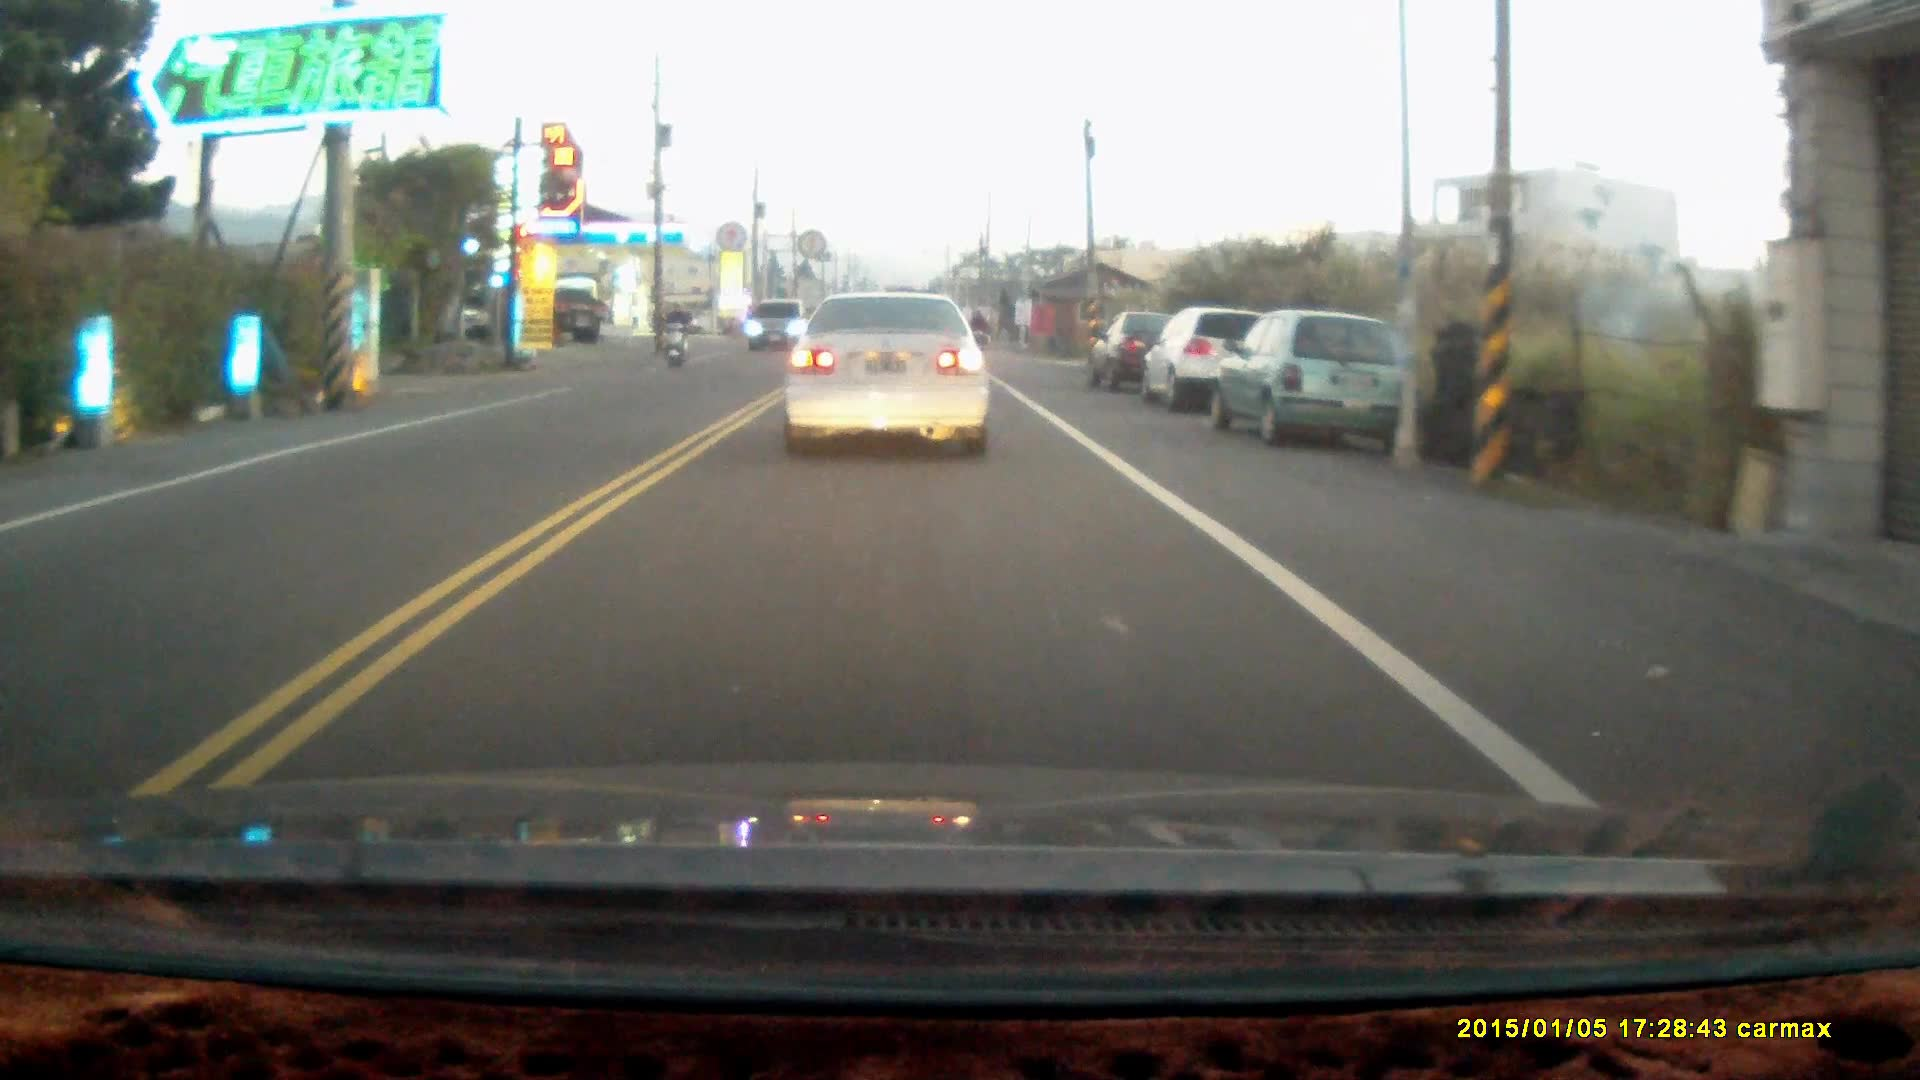rider: (660, 299, 690, 368)
vehicle: (785, 287, 996, 459), (1203, 309, 1415, 448), (1151, 306, 1268, 414), (1092, 309, 1189, 391), (750, 301, 814, 353)
